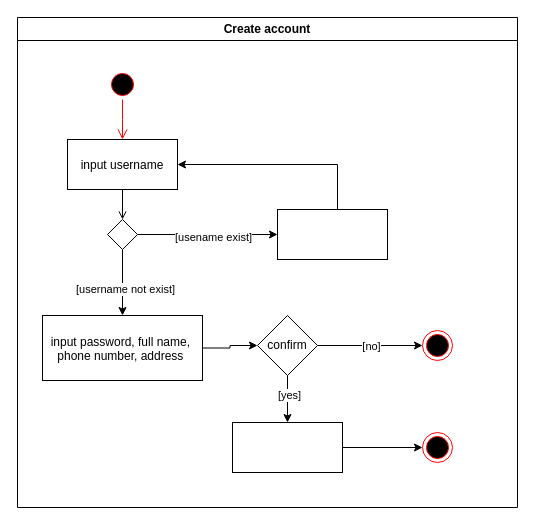
The diagram is 535 pixels wide and 525 high, and some of its shapes have lost their labels. The centre of each missing label's shape, as x and y in pixels:
create user: (287,447)
display "username exist": (332,234)
